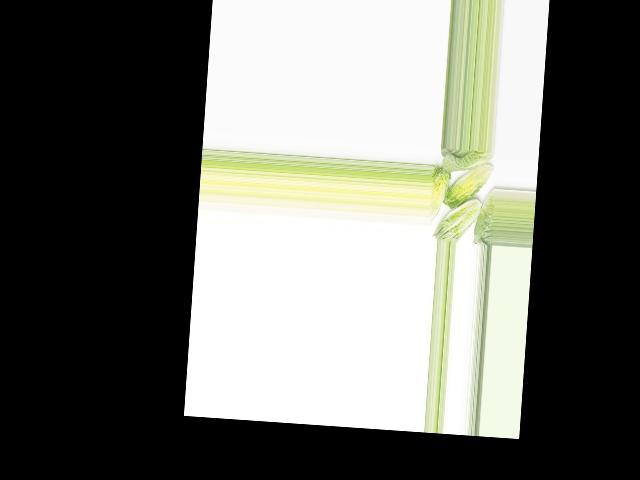lettuce: (438, 147, 492, 176)
